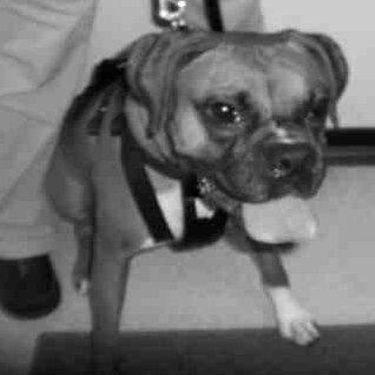cat: (34, 21, 351, 369)
